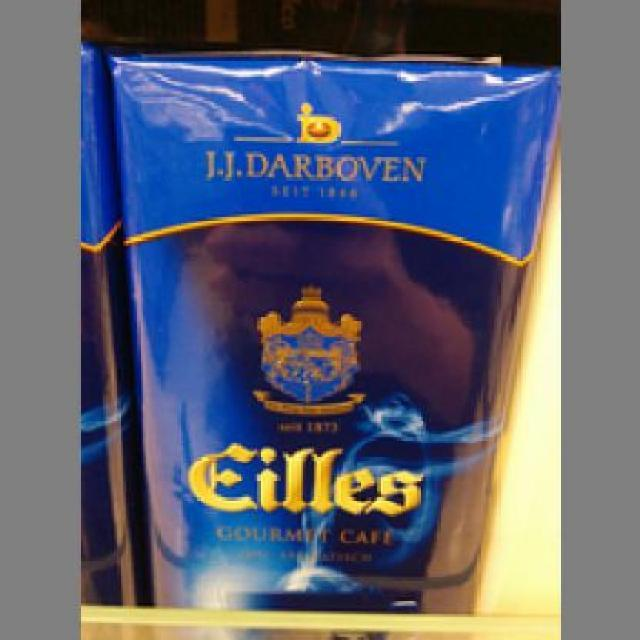Coffee: (108, 49, 554, 612)
